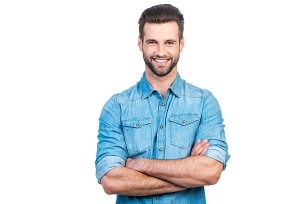male: (132, 3, 187, 78)
